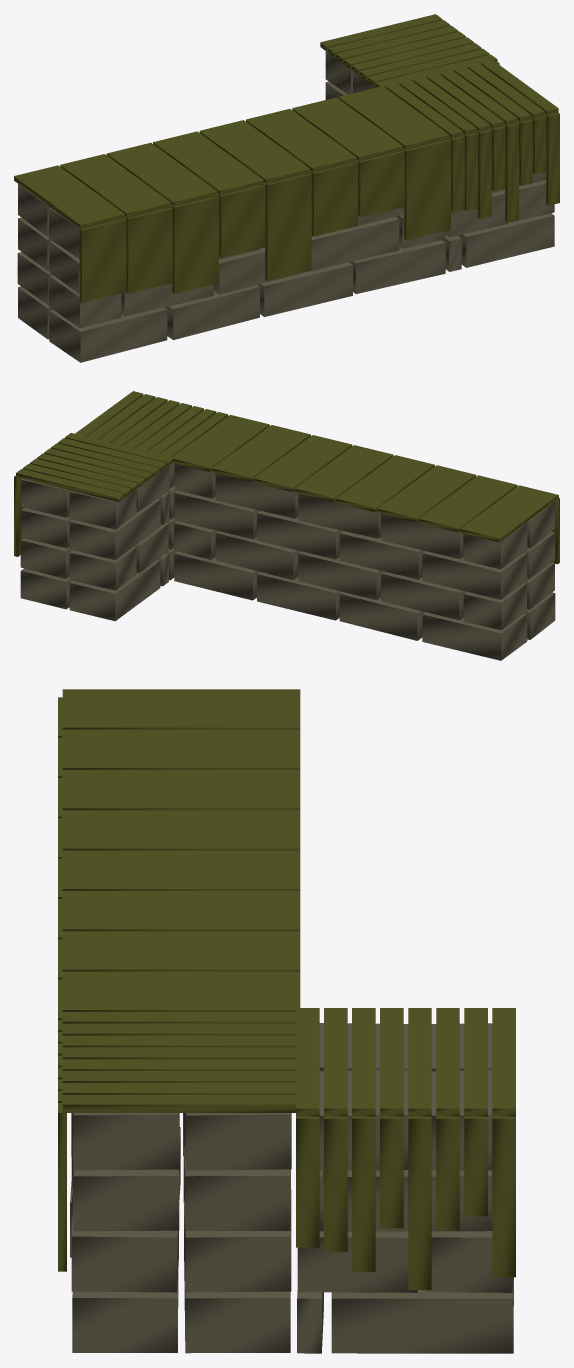
The model's file is SM_SacosRemateEspejo_v4_Red_e0_Sano_LOD0.fbx.
3 views of the same model, one above another, from view 1: azimuth 30°, elevation 25°; view 2: azimuth 150°, elevation 25°; view 3: azimuth 270°, elevation 25° (orthographic). The views are drawn at different scales.
Parts seen in each view (by area): view 1: SM_sacos_piezas_v36_LOD0; view 2: SM_sacos_piezas_v36_LOD0; view 3: SM_sacos_piezas_v36_LOD0.
Boxes of the visible parts, x1,y1,x2,y2 form: SM_sacos_piezas_v36_LOD0: (14, 14, 559, 362); SM_sacos_piezas_v36_LOD0: (14, 391, 559, 660); SM_sacos_piezas_v36_LOD0: (58, 689, 515, 1353).
Bounding box in the file's own units: 4.44 × 1.23 × 2.04.
